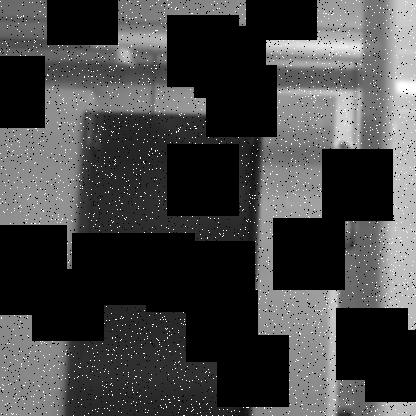Porte: (58, 110, 266, 416)
